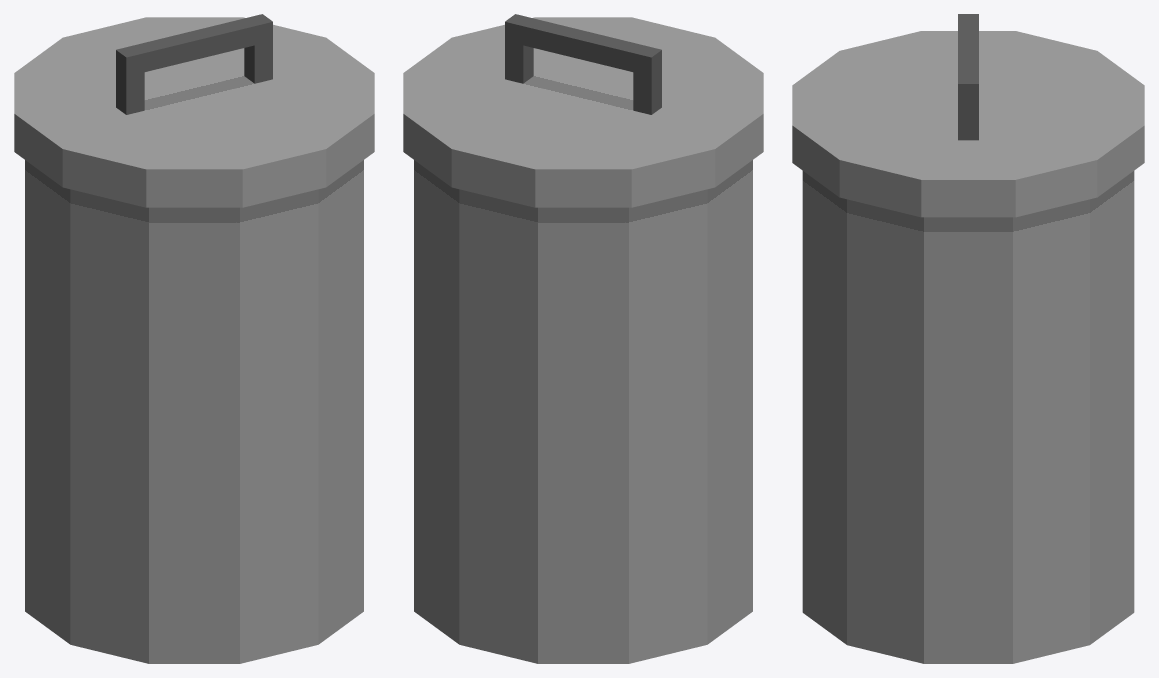
File: Bin2.fbx
3 renders of one model, left to right at view 1: azimuth 30°, elevation 25°; view 2: azimuth 150°, elevation 25°; view 3: azimuth 270°, elevation 25°, orthographic. The views are drawn at different scales.
Parts seen in each view (by area): view 1: cylinder, cylinder_1, cube_2, cube_1, cube; view 2: cylinder, cylinder_1, cube_2, cube_1, cube; view 3: cylinder, cylinder_1, cube, cube_2.
Part boxes in pixels (box(x1,y1,x2,y2)): cylinder: box(25, 160, 363, 663); cylinder_1: box(14, 17, 374, 207); cube_2: box(134, 18, 254, 71); cube_1: box(116, 45, 144, 114); cube: box(244, 14, 272, 83); cylinder: box(414, 160, 752, 663); cylinder_1: box(403, 17, 763, 207); cube_2: box(523, 18, 643, 71); cube_1: box(633, 45, 661, 114); cube: box(505, 14, 533, 83); cylinder: box(802, 171, 1134, 663); cylinder_1: box(792, 31, 1144, 217); cube: box(958, 75, 978, 140); cube_2: box(958, 22, 978, 75).
Bounding box in the file's own units: 106 × 181 × 106.
Materials: 1 (1 with a texture image).
